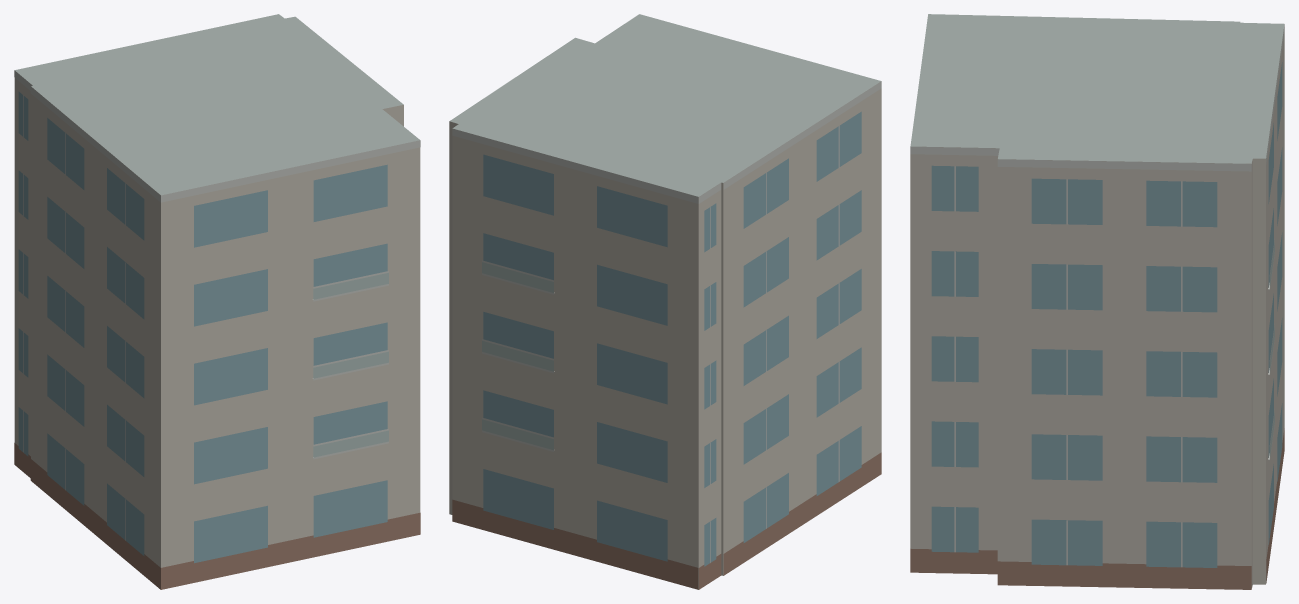
The model's file is survey-upis-32965527.glb.
3 renders of one model, left to right at view 1: azimuth 30°, elevation 25°; view 2: azimuth 150°, elevation 25°; view 3: azimuth 270°, elevation 25°, orthographic. The views are drawn at different scales.
Visible parts, largest first — view 1: survey-upis-32965527.tmp; view 2: survey-upis-32965527.tmp; view 3: survey-upis-32965527.tmp.
Boxes of the visible parts, bbox=[...] form: survey-upis-32965527.tmp: bbox=[14, 14, 420, 589]; survey-upis-32965527.tmp: bbox=[449, 14, 881, 589]; survey-upis-32965527.tmp: bbox=[910, 14, 1284, 589].
Size of the model in its own units: 10.14 by 13.43 by 10.7.
